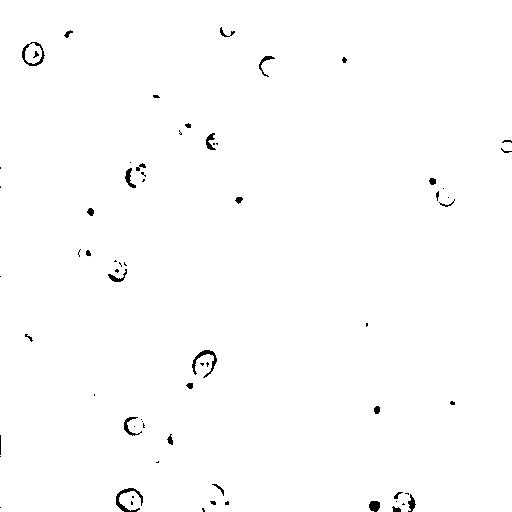micro-algae: (269, 9, 343, 82), (86, 353, 153, 420), (140, 118, 206, 185), (251, 476, 317, 512), (381, 175, 423, 217), (165, 112, 209, 152), (55, 20, 89, 54), (430, 386, 468, 416), (191, 348, 219, 381), (119, 162, 149, 192), (134, 158, 163, 189), (84, 452, 115, 481), (104, 117, 132, 146), (99, 256, 129, 283), (357, 490, 395, 511), (85, 373, 113, 400), (80, 197, 106, 226), (114, 487, 144, 512), (214, 490, 248, 512), (144, 456, 172, 482), (41, 295, 66, 323), (348, 313, 376, 338), (21, 40, 46, 67), (420, 169, 444, 195), (363, 397, 389, 421), (390, 490, 418, 512), (257, 54, 282, 78), (76, 239, 101, 263), (263, 316, 288, 340), (435, 184, 458, 209), (203, 481, 225, 506), (406, 0, 445, 14), (145, 437, 168, 460), (19, 328, 41, 352), (122, 415, 145, 437), (120, 0, 148, 18), (179, 369, 199, 393), (260, 103, 281, 125), (332, 48, 352, 69), (165, 429, 188, 447), (204, 132, 224, 152), (219, 19, 237, 38), (231, 194, 251, 209), (445, 79, 461, 95), (500, 138, 512, 154), (188, 504, 207, 511)
